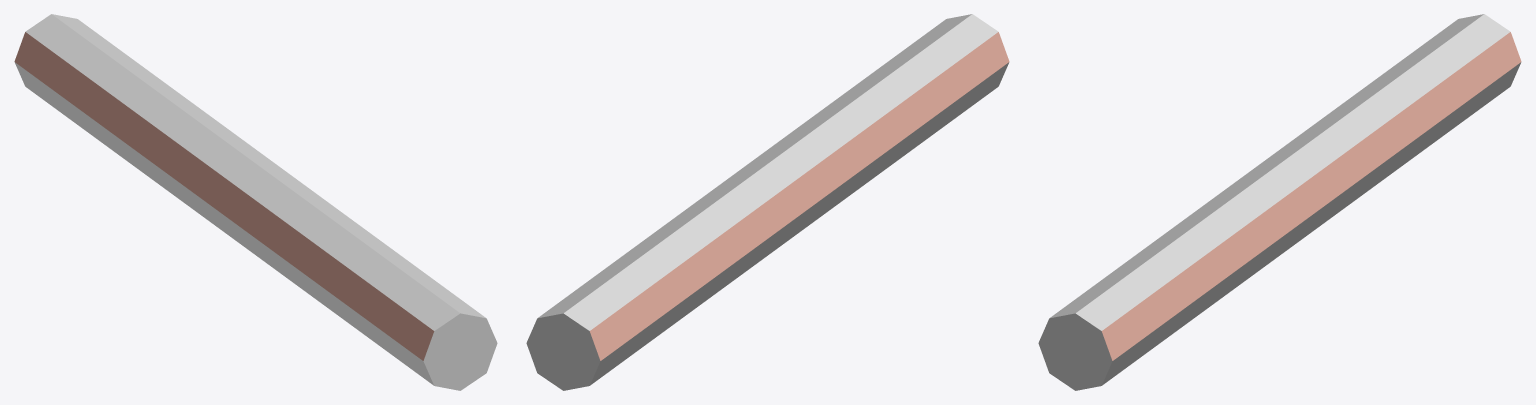
File: trumpet.fbx
3 views of the same model, side by side, from view 1: azimuth 30°, elevation 25°; view 2: azimuth 150°, elevation 25°; view 3: azimuth 330°, elevation 25° (orthographic).
Parts seen in each view (by area): view 1: Cylinder_14; view 2: Cylinder_14; view 3: Cylinder_14.
Part boxes in pixels (bbox=[...]): Cylinder_14: bbox=[14, 14, 497, 390]; Cylinder_14: bbox=[526, 14, 1009, 390]; Cylinder_14: bbox=[1038, 14, 1521, 390].
Size of the model in its own units: 25.31 by 25.31 by 242.
